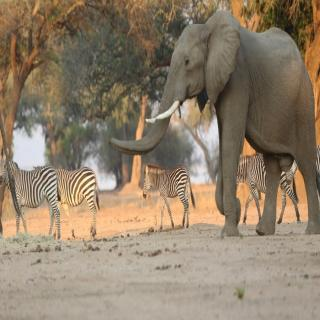Elephant: (106, 6, 320, 240)
